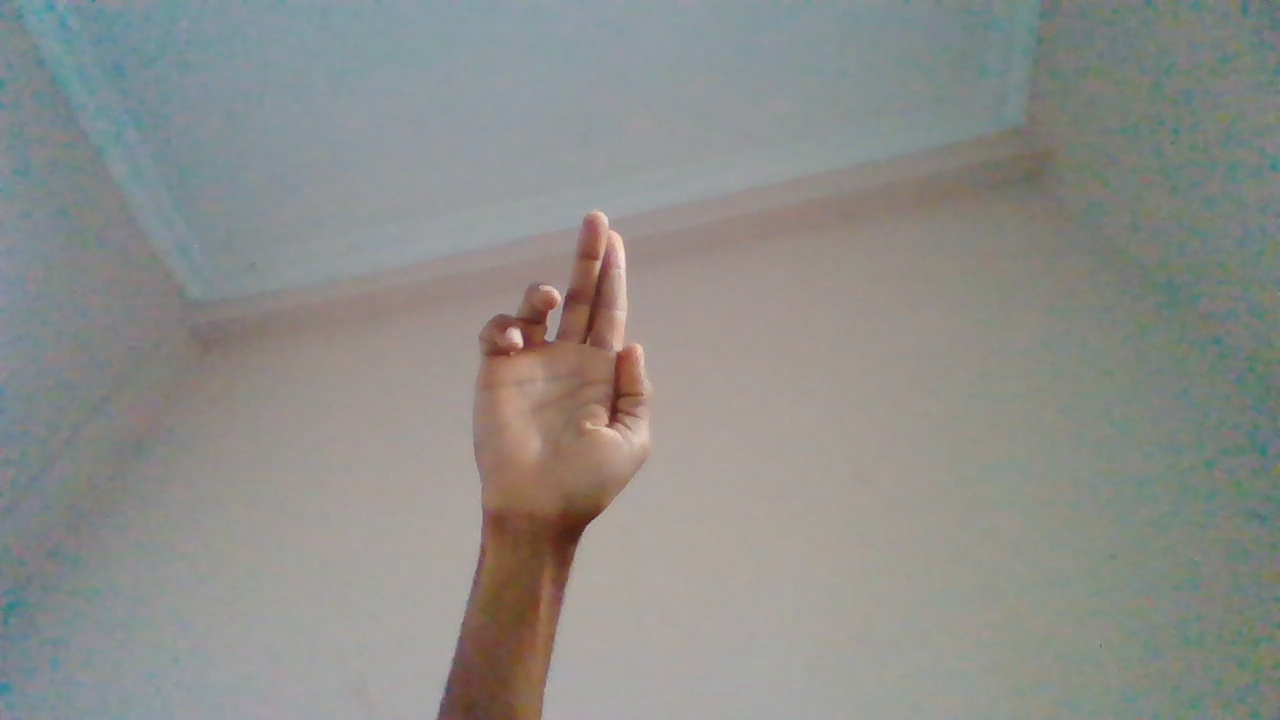gne: (467, 210, 656, 626)
